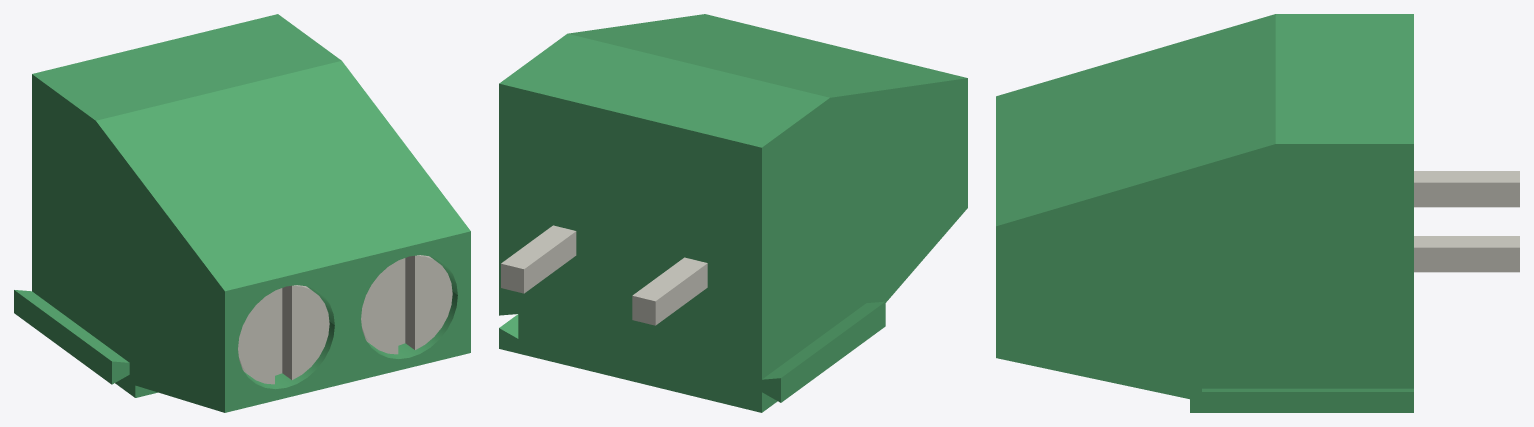
File: TerminalBlock_Phoenix_TerminalBlock_Phoenix_MKDS-1_5-2-5.08_1x02_P5.08mm_Horizontal.glb
3 views of the same model, side by side, from view 1: azimuth 30°, elevation 25°; view 2: azimuth 150°, elevation 25°; view 3: azimuth 270°, elevation 25° (orthographic). The views are drawn at different scales.
Size of the model in its own units: 10.9 by 9.8 by 17.3.
